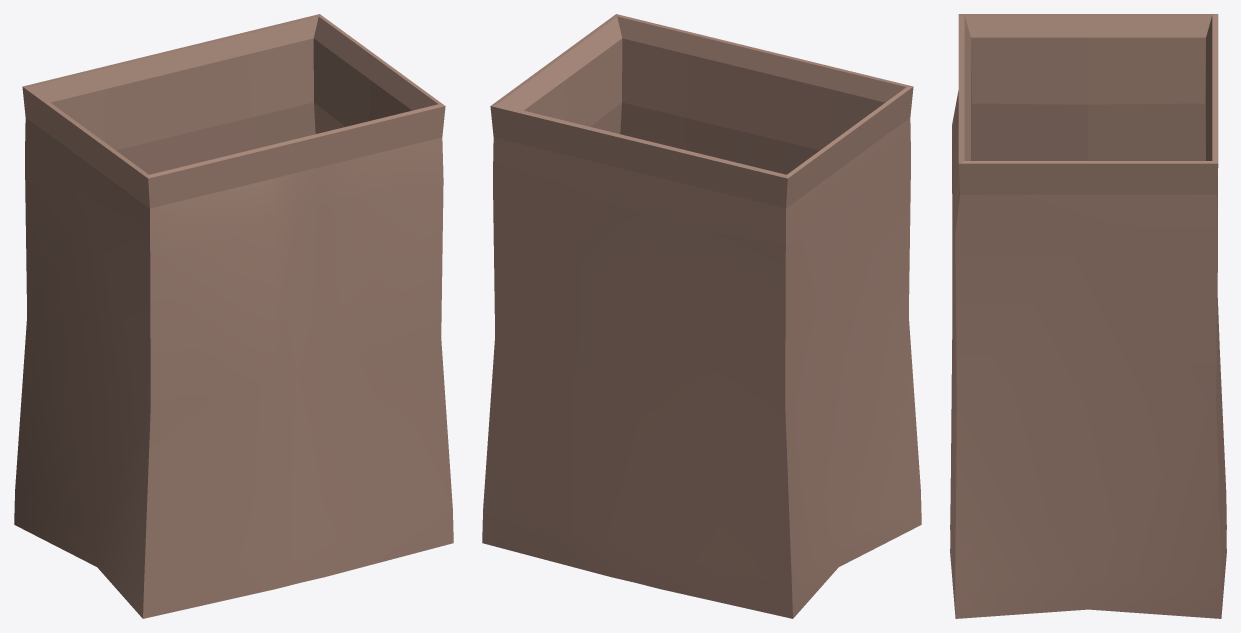
File: SM_bag_02.fbx
3 views of the same model, side by side, from view 1: azimuth 30°, elevation 25°; view 2: azimuth 150°, elevation 25°; view 3: azimuth 270°, elevation 25° (orthographic). The views are drawn at different scales.
Visible parts, largest first — view 1: bag_02; view 2: bag_02; view 3: bag_02.
Part boxes in pixels (x1=…): bag_02: x1=14, y1=14, x2=453, y2=618; bag_02: x1=482, y1=14, x2=921, y2=618; bag_02: x1=950, y1=14, x2=1226, y2=618.
Size of the model in its own units: 48.09 by 64.78 by 35.92.
